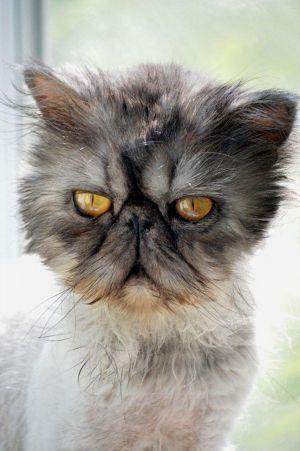persian: (2, 51, 298, 326)
